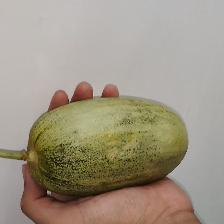gua: (34, 108, 170, 176)
